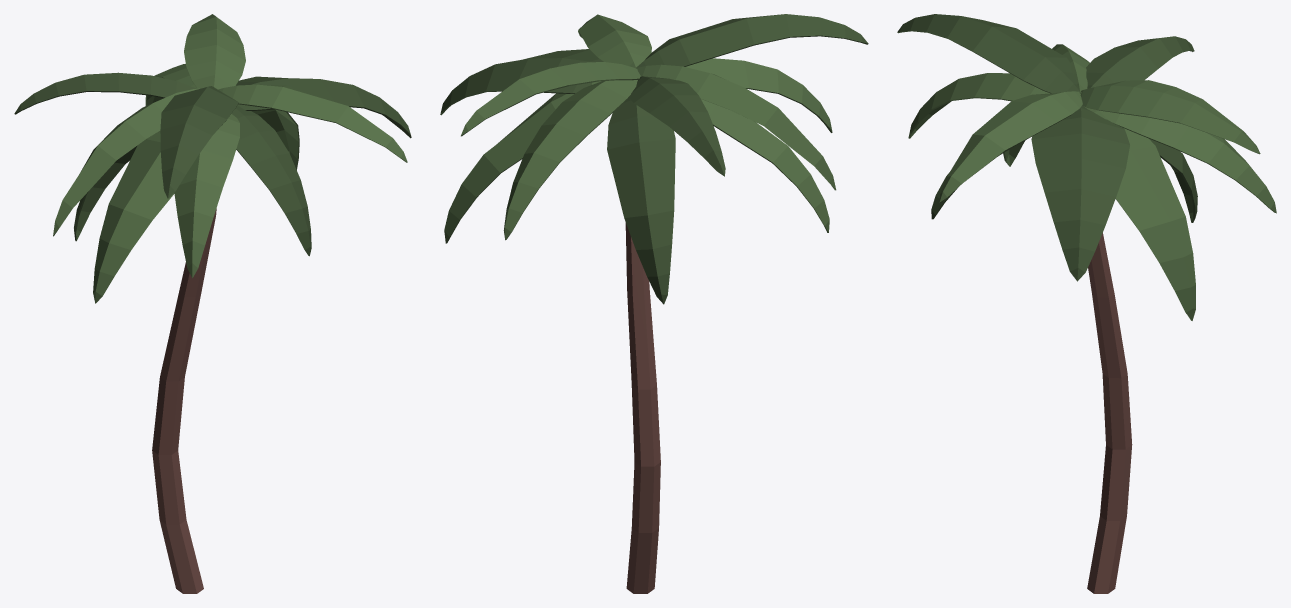
File: palmTree.glb
3 views of the same model, side by side, from view 1: azimuth 30°, elevation 25°; view 2: azimuth 150°, elevation 25°; view 3: azimuth 270°, elevation 25° (orthographic).
Parts seen in each view (by area): view 1: PalmTree_3; view 2: PalmTree_3; view 3: PalmTree_3.
Part boxes in pixels (box(x1,y1,x2,y2)): PalmTree_3: box(14, 14, 411, 593); PalmTree_3: box(440, 14, 868, 593); PalmTree_3: box(897, 14, 1276, 593).
Bounding box in the file's own units: 2.88 × 3.93 × 2.51.
